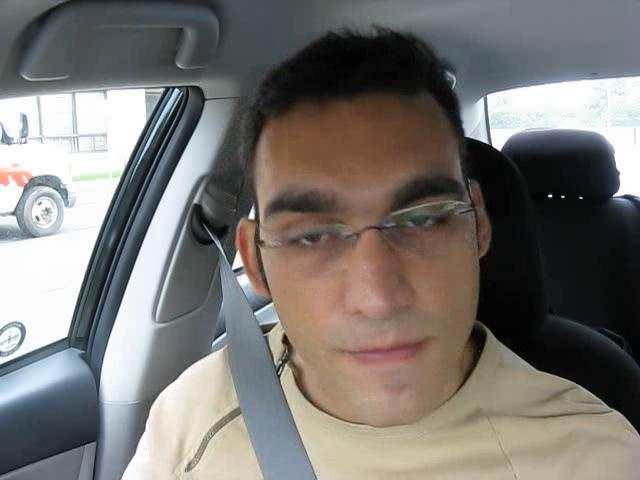close_eyeL: (266, 210, 353, 268)
close_eyeR: (383, 193, 477, 251)
no_yawn: (317, 319, 451, 378)
